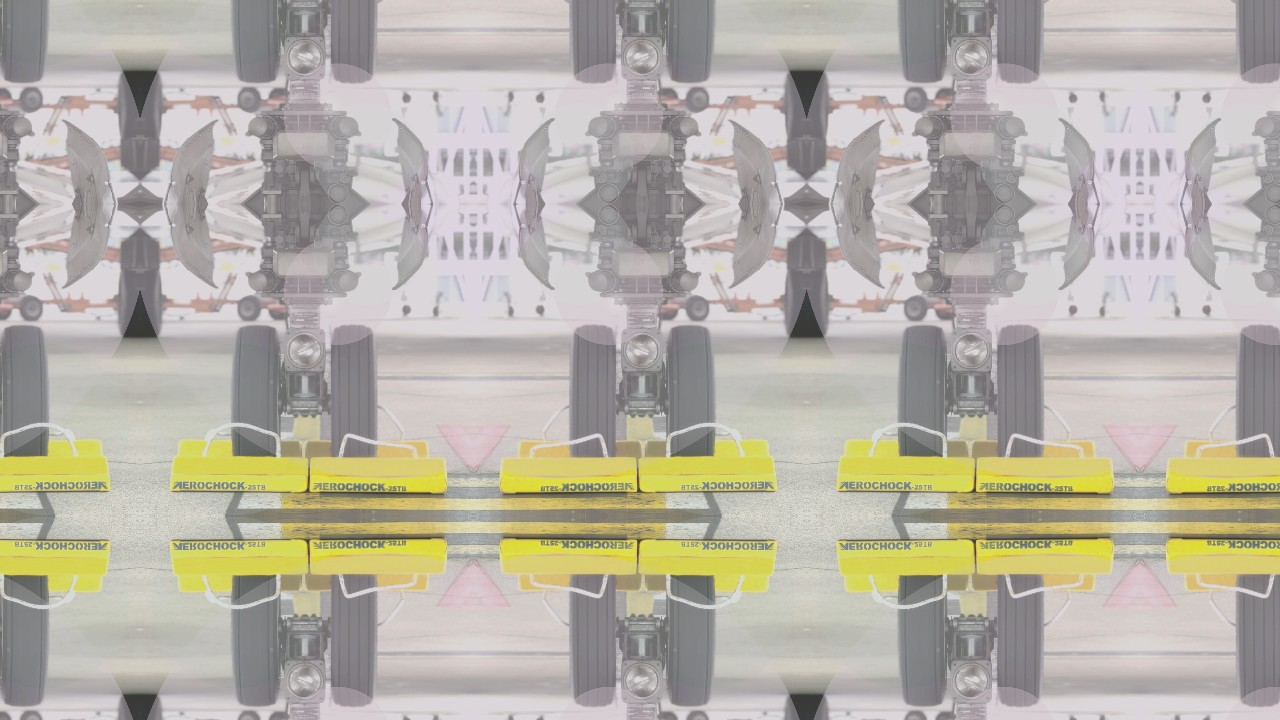chock: (638, 455, 777, 494), (638, 538, 777, 577), (170, 455, 308, 494), (837, 455, 975, 494), (170, 538, 308, 577), (837, 538, 975, 577), (309, 456, 448, 494), (498, 456, 637, 494), (976, 456, 1115, 494), (309, 538, 448, 575), (498, 538, 637, 575), (976, 538, 1115, 575), (1165, 456, 1280, 494), (0, 455, 110, 494), (0, 538, 110, 577), (1165, 538, 1280, 575), (176, 438, 304, 458), (176, 574, 304, 594), (643, 438, 770, 458), (843, 438, 970, 458), (643, 574, 770, 594), (843, 574, 970, 594), (305, 440, 431, 459), (516, 440, 642, 459), (972, 440, 1098, 459), (305, 573, 431, 592), (516, 573, 642, 592), (972, 573, 1098, 592), (0, 438, 104, 458), (0, 574, 104, 594), (1182, 440, 1280, 459), (1182, 573, 1280, 592)
wheel: (232, 324, 280, 456), (666, 324, 714, 456), (899, 324, 947, 456), (232, 576, 280, 708), (666, 576, 714, 708), (899, 576, 947, 708), (0, 324, 47, 456), (0, 576, 47, 708), (330, 574, 376, 708), (571, 574, 617, 708), (996, 574, 1042, 708), (330, 325, 376, 458), (571, 325, 617, 458), (996, 325, 1042, 458), (1238, 574, 1280, 708), (1238, 325, 1280, 458), (232, 0, 280, 84), (666, 0, 714, 84), (899, 0, 947, 84), (0, 0, 47, 84), (330, 0, 376, 83), (571, 0, 617, 83), (996, 0, 1042, 83), (1238, 0, 1280, 83), (117, 72, 138, 131), (784, 72, 805, 131), (117, 277, 138, 335), (784, 277, 805, 335), (142, 72, 162, 131), (809, 72, 829, 131), (142, 277, 162, 335), (809, 277, 829, 335), (20, 88, 42, 112), (237, 88, 259, 112), (687, 88, 709, 112), (904, 88, 926, 112), (20, 296, 42, 320), (237, 296, 259, 320), (687, 296, 709, 320), (904, 296, 926, 320), (117, 697, 138, 720), (784, 697, 805, 720), (142, 697, 162, 720), (809, 697, 829, 720), (269, 88, 286, 101), (661, 88, 678, 101), (936, 88, 953, 101), (269, 308, 286, 320), (661, 308, 678, 320), (936, 308, 953, 320), (20, 712, 42, 720), (237, 712, 259, 720), (687, 712, 709, 720), (904, 712, 926, 720), (0, 88, 11, 101), (0, 308, 11, 320), (269, 713, 286, 720), (661, 713, 678, 720), (936, 713, 953, 720), (0, 713, 11, 720)
